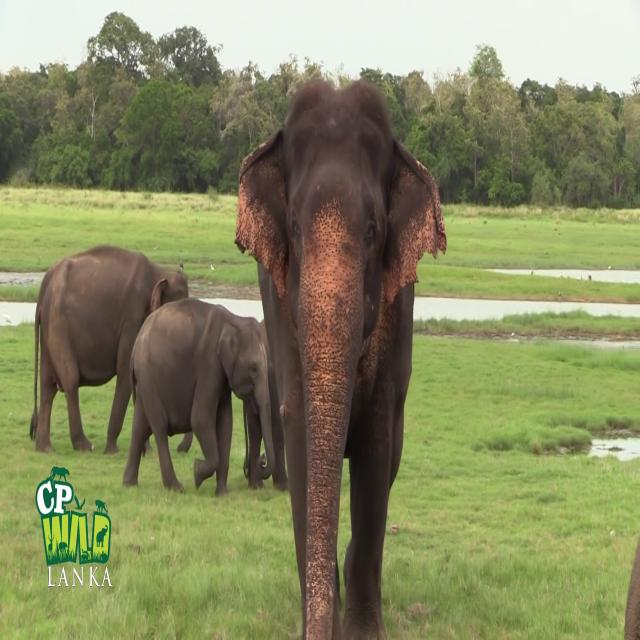Elephant: (234, 77, 446, 639), (29, 243, 189, 455), (122, 296, 275, 497)
